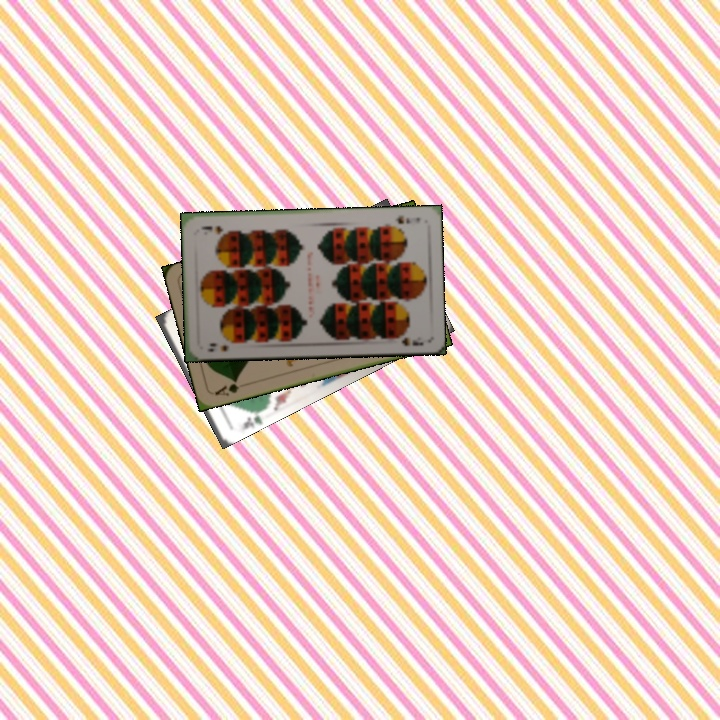GA: (211, 376, 242, 399)
GK: (238, 406, 265, 432)
S9: (391, 211, 422, 226), (203, 339, 232, 354)
